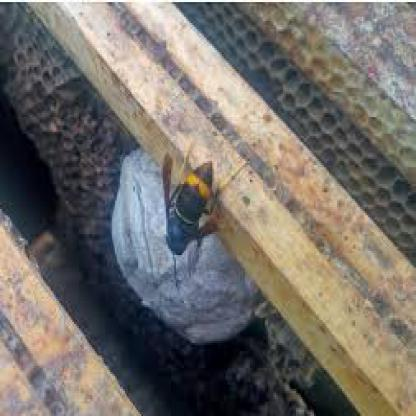asian: (154, 124, 252, 264)
